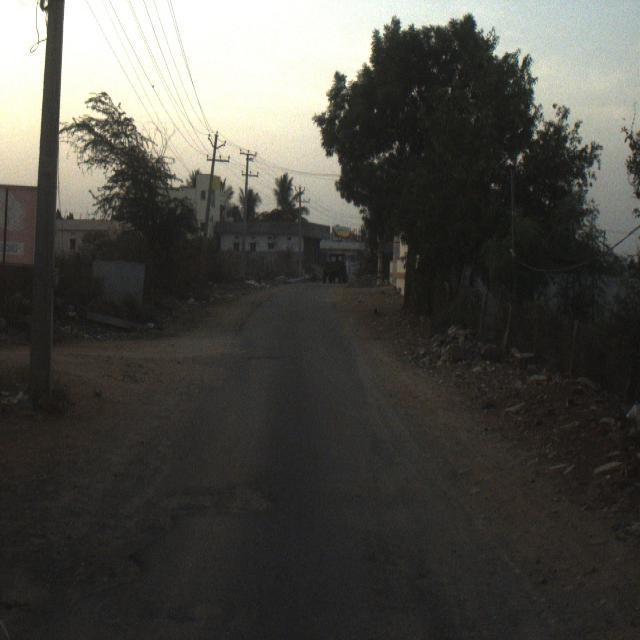Pothole: (177, 450, 292, 551), (402, 528, 490, 640), (67, 536, 159, 640), (168, 569, 247, 640), (241, 328, 316, 402)
